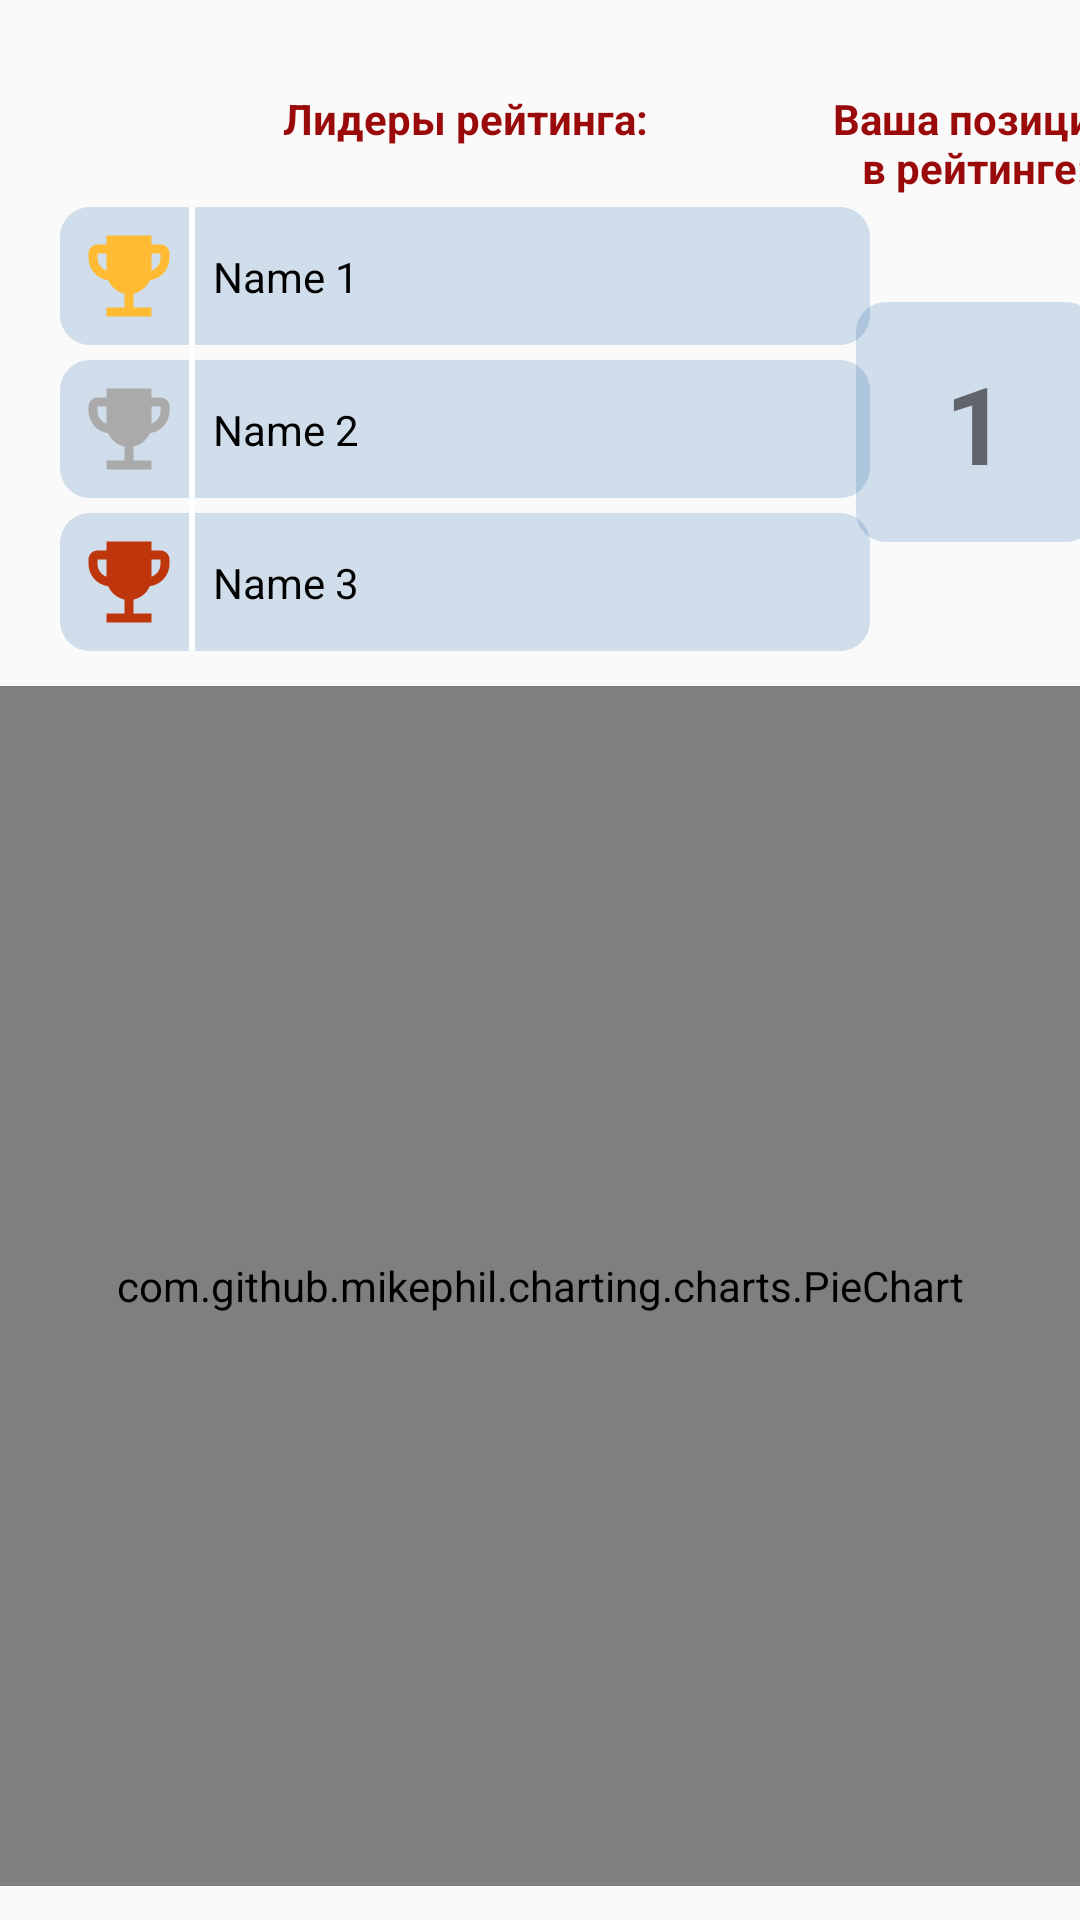

Where to tap for icons on this 1080px x 1920px app screen, as (x,y):
cup bronze: (129,582)
cup gold: (129,276)
cup silver: (129,429)
